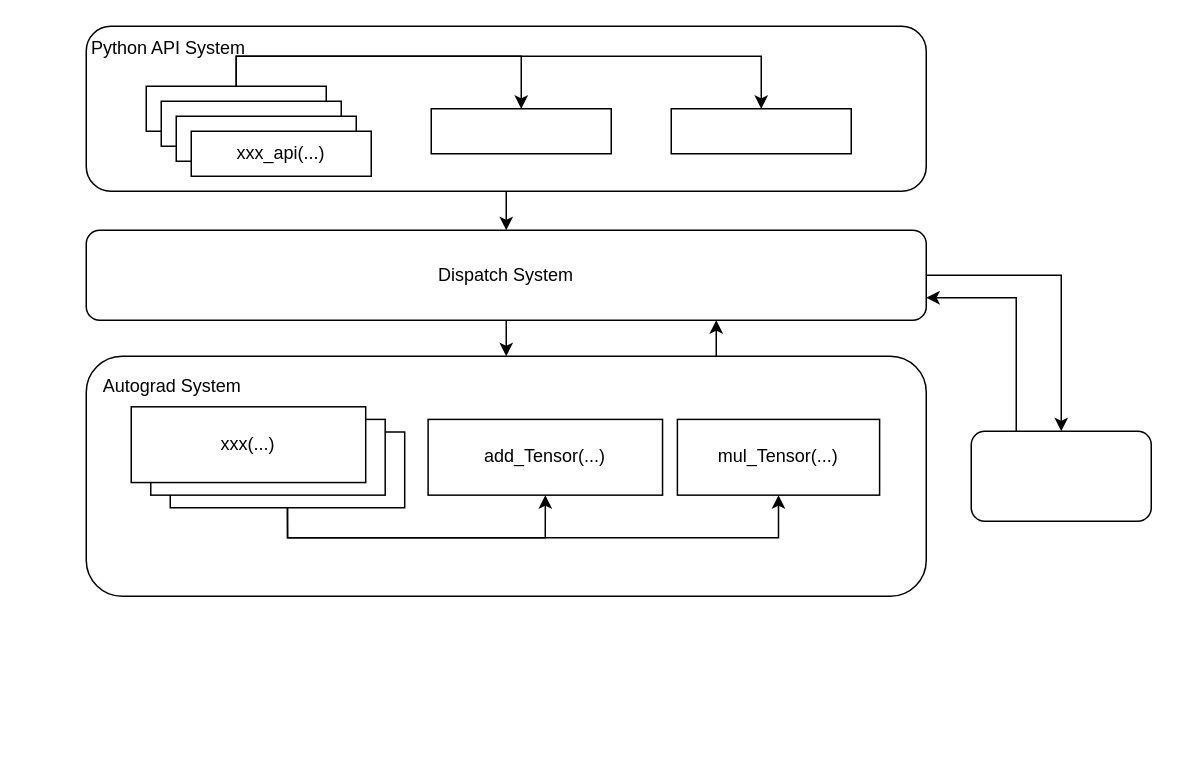
Image size: 1178x758. Some labels were removed from this diagram. Each missing label, with the centre of its shape:
"add(Tensor, ...)" belongs at (520,130).
"mul(Tensor, ...)" belongs at (760,130).
"Other Backend" belongs at (1060,475).
